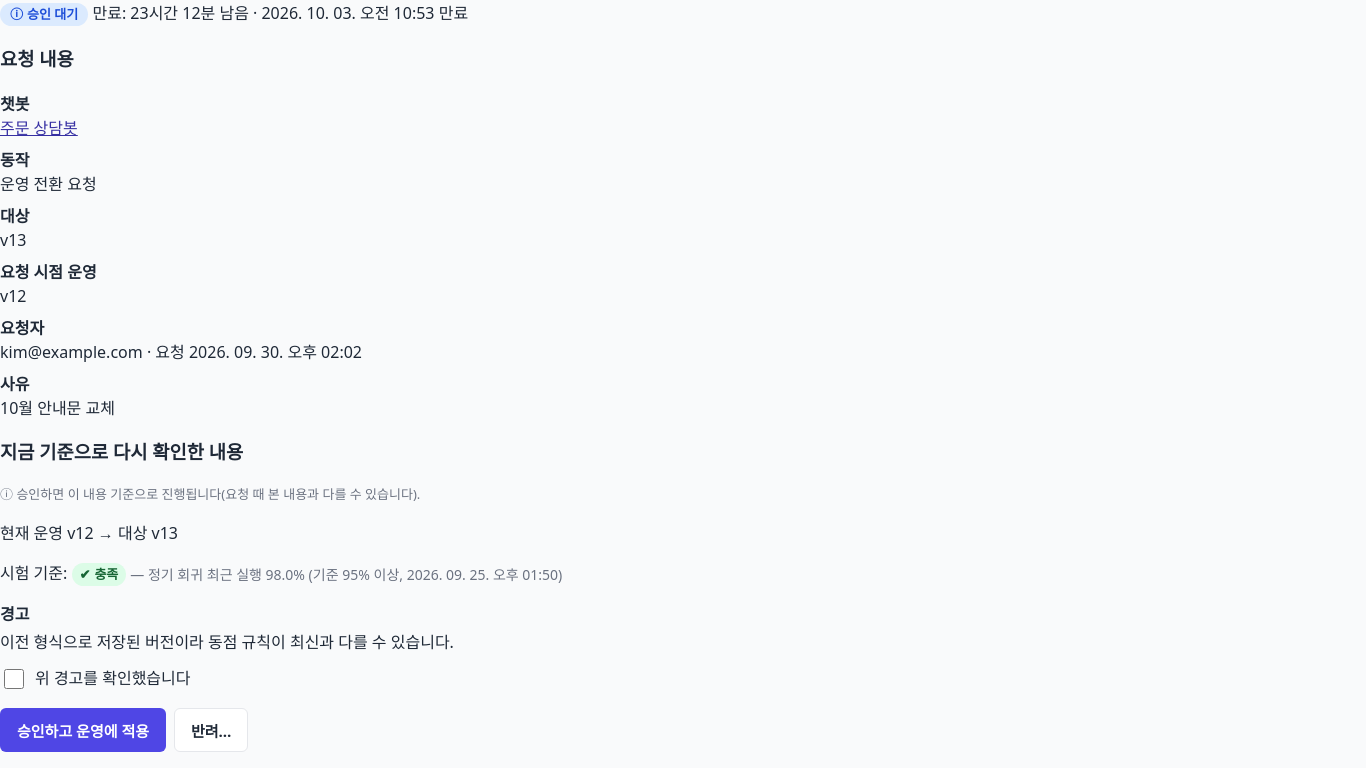
Test: AP-2 승인 요청 상세 › axe: 상세 화면과 반려 대화상자에 구조적 접근성 위반이 없다
(page scrolled)
Expected: the heading "지금 기준으로 다시 확인한 내용" is shown, [0,439,243,464]
Click the button "반려…". click: (211, 730)
box: [174,708,248,752]
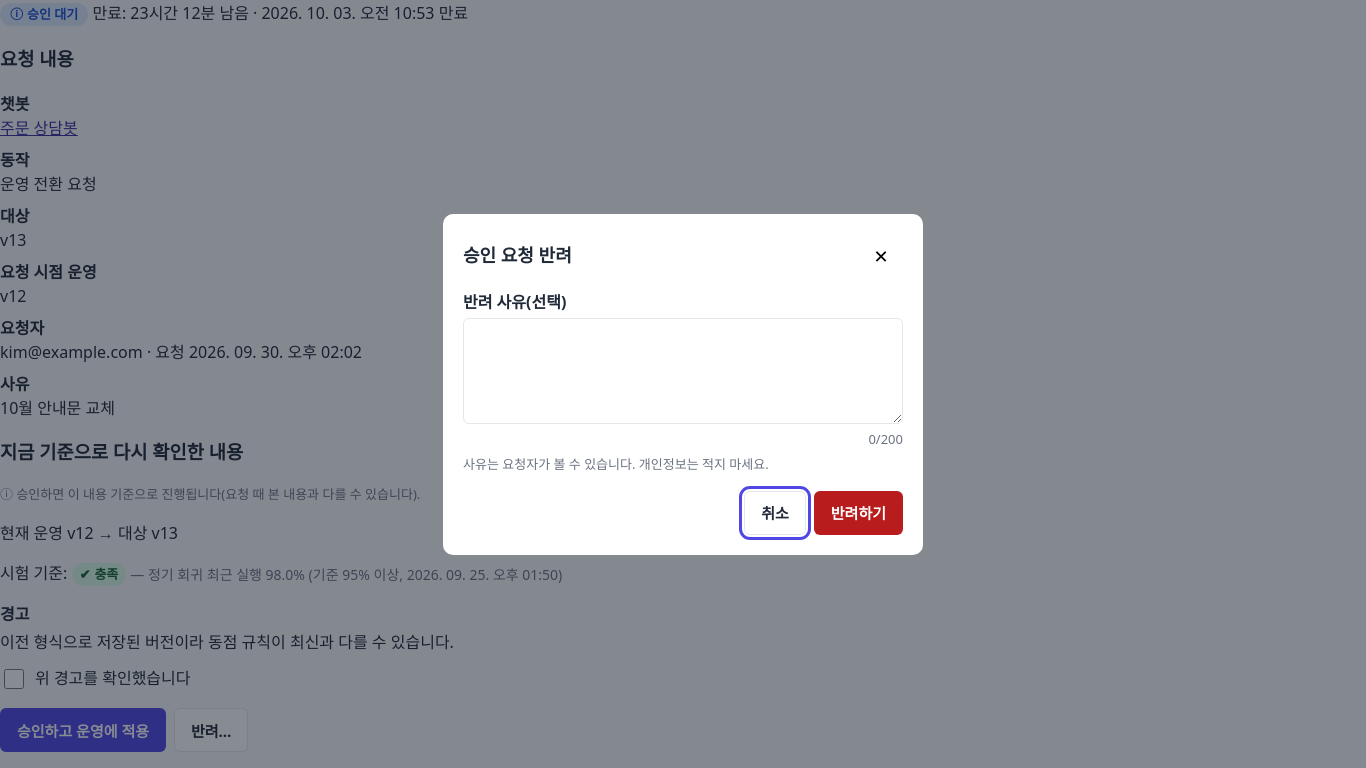
Now the dialog "승인 요청 반려" is shown, box [443,214,923,554]
